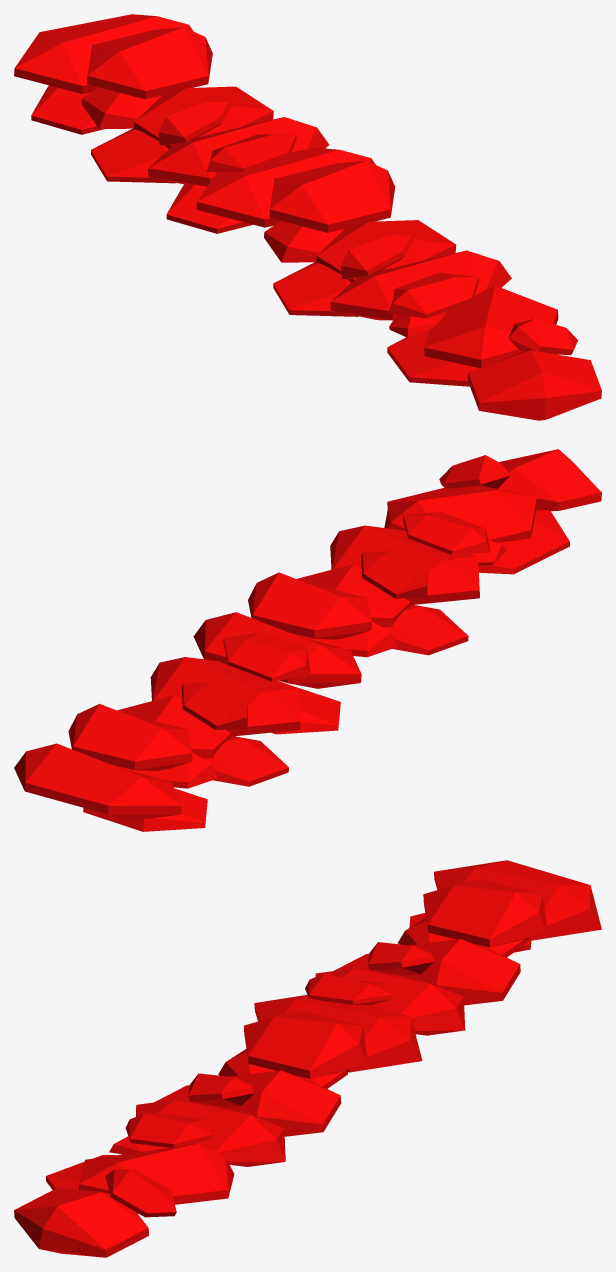
Rendered from water_border_rocks.fbx.
3 renders of one model, top to bottom at view 1: azimuth 30°, elevation 25°; view 2: azimuth 150°, elevation 25°; view 3: azimuth 330°, elevation 25°, orthographic.
Parts seen in each view (by area): view 1: pCube59, pCube50, pCube64, pCube56, pCube69, pCube51, pCube54, pCube66, pCube52, pCube73, pCube57, pCube62 (+11 smaller); view 2: pCube69, pCube64, pCube50, pCube66, pCube54, pCube56, pCube51, pCube59, pCube68, pCube62, pCube65, pCube57 (+10 smaller); view 3: pCube59, pCube64, pCube50, pCube56, pCube69, pCube51, pCube54, pCube73, pCube52, pCube66, pCube57, pCube60 (+6 smaller).
Boxes of the visible parts, x1,y1,x2,y2 form: pCube59: (467, 350, 601, 420); pCube50: (269, 160, 395, 232); pCube64: (87, 27, 212, 99); pCube56: (424, 285, 558, 368); pCube69: (14, 14, 193, 93); pCube51: (196, 147, 375, 227); pCube54: (330, 250, 511, 320); pCube66: (148, 117, 329, 186); pCube52: (316, 220, 456, 282); pCube73: (133, 86, 273, 148); pCube57: (388, 272, 478, 318); pCube62: (273, 262, 358, 316); pCube69: (14, 743, 181, 819); pCube64: (68, 703, 192, 770); pCube50: (248, 572, 371, 639); pCube66: (150, 657, 300, 736); pCube54: (330, 525, 479, 605); pCube56: (384, 486, 537, 542); pCube51: (193, 612, 361, 688); pCube59: (498, 449, 601, 511); pCube68: (223, 632, 310, 681); pCube62: (382, 605, 468, 655); pCube65: (202, 736, 288, 786); pCube57: (402, 512, 490, 554); pCube59: (14, 1188, 149, 1257); pCube64: (423, 879, 547, 947); pCube50: (244, 1010, 367, 1078); pCube56: (78, 1143, 234, 1204); pCube69: (434, 860, 601, 940); pCube51: (254, 994, 422, 1072); pCube54: (136, 1099, 285, 1166); pCube73: (402, 939, 520, 1005); pCube52: (223, 1070, 341, 1136); pCube66: (315, 968, 465, 1035); pCube57: (125, 1113, 213, 1147); pCube60: (105, 1169, 176, 1217).
Bounding box in the file's own units: 24.35 × 10.92 × 111.
